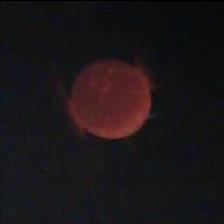infertile: (68, 58, 156, 140)
